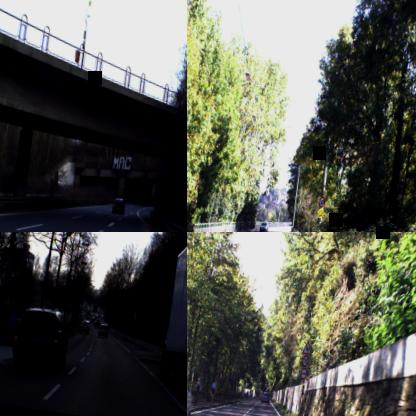bend left: (300, 337, 312, 355)
keep right: (7, 307, 19, 326)
no overtaking (trucks): (298, 366, 308, 379)
speed limit 50: (316, 194, 326, 208)
speed limit 70: (300, 354, 310, 367)
